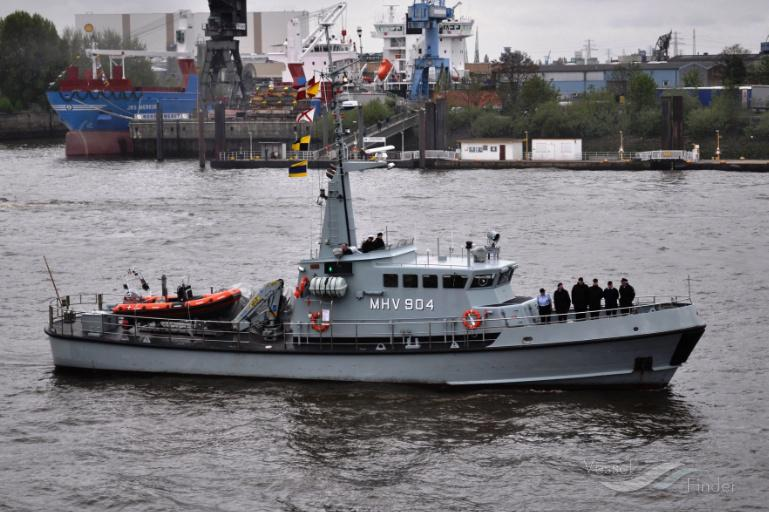OCR: (363, 294, 439, 318)
